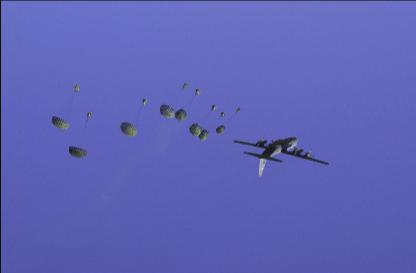Be200: (232, 137, 328, 176)
